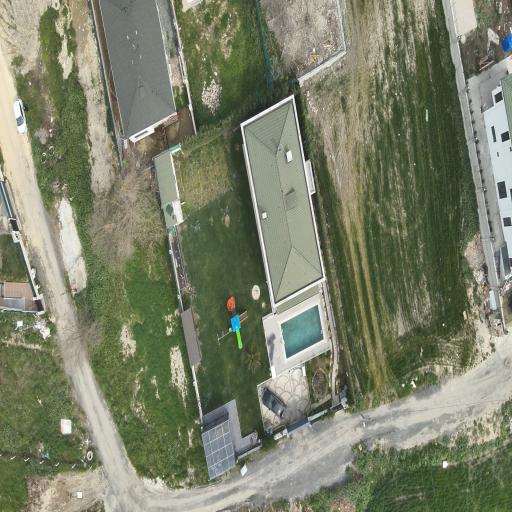car: (261, 388, 284, 418), (13, 99, 26, 134)
